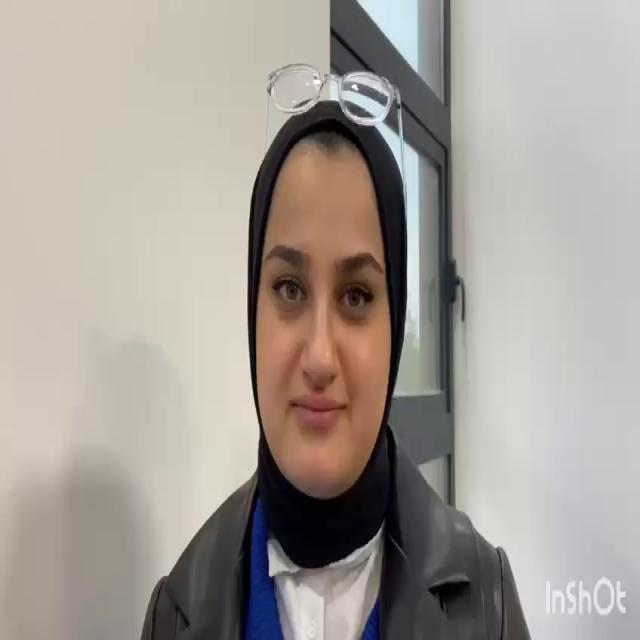happy: (249, 119, 408, 503)
